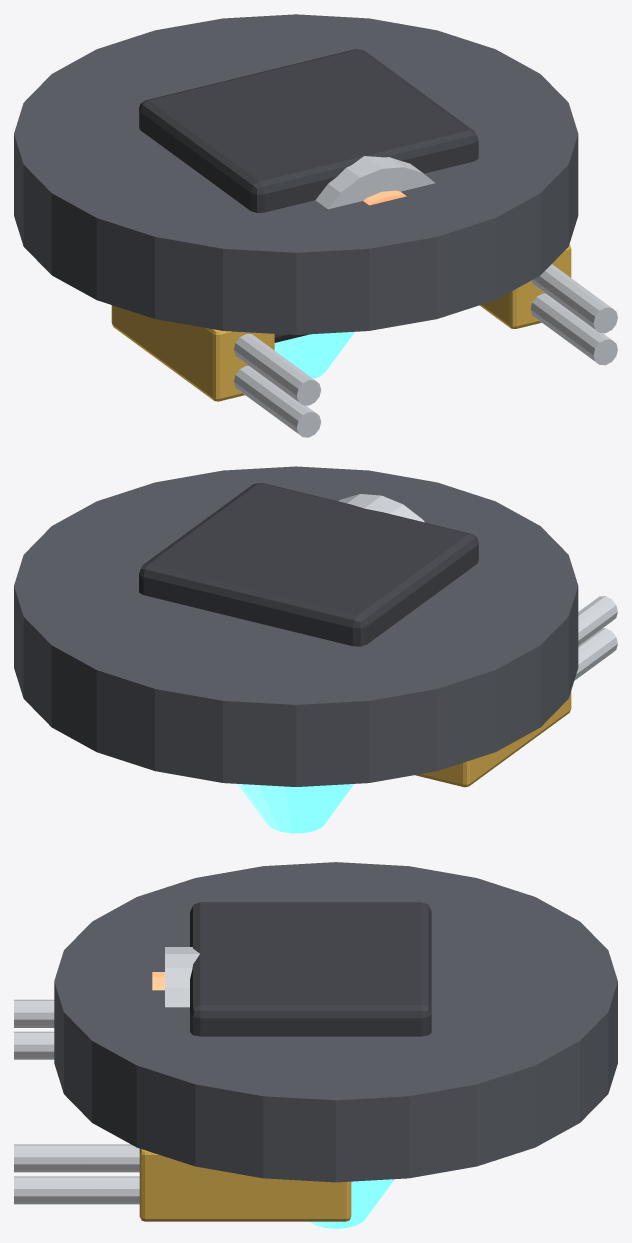
Rendered from enemy_drone_sparachiodi.glb.
3 views of the same model, one above another, from view 1: azimuth 30°, elevation 25°; view 2: azimuth 150°, elevation 25°; view 3: azimuth 270°, elevation 25° (orthographic).
Visible parts, largest first — view 1: DroneShroud, DroneCore, GunPod_-0.34, OpticBezel, NailBarrelA_-0.34, NailBarrelB_0.34, NailBarrelB_-0.34, NailBarrelA_0.34, ThrusterGlow, GunPod_0.34; view 2: DroneShroud, DroneCore, ThrusterGlow, GunPod_-0.34, NailBarrelA_-0.34, NailBarrelB_-0.34, OpticBezel; view 3: DroneShroud, DroneCore, GunPod_0.34, NailBarrelB_0.34, NailBarrelA_0.34, OpticBezel, ThrusterGlow, NailBarrelA_-0.34, NailBarrelB_-0.34.
Boxes of the visible parts, <box> form: DroneShroud: <box>14,14,578,334</box>; DroneCore: <box>139,49,478,342</box>; GunPod_-0.34: <box>111,305,274,401</box>; OpticBezel: <box>315,156,435,209</box>; NailBarrelA_-0.34: <box>234,334,320,405</box>; NailBarrelB_0.34: <box>530,293,617,365</box>; NailBarrelB_-0.34: <box>234,366,320,437</box>; NailBarrelA_0.34: <box>531,264,617,333</box>; ThrusterGlow: <box>274,331,354,378</box>; GunPod_0.34: <box>479,244,571,328</box>; DroneShroud: <box>14,466,578,786</box>; DroneCore: <box>139,483,478,646</box>; ThrusterGlow: <box>237,784,353,833</box>; GunPod_-0.34: <box>415,691,571,787</box>; NailBarrelA_-0.34: <box>578,596,617,645</box>; NailBarrelB_-0.34: <box>574,628,617,680</box>; OpticBezel: <box>338,494,424,522</box>; DroneShroud: <box>54,862,617,1182</box>; DroneCore: <box>190,902,431,1036</box>; GunPod_0.34: <box>139,1148,351,1221</box>; NailBarrelB_0.34: <box>14,1176,139,1204</box>; NailBarrelA_0.34: <box>14,1144,139,1172</box>; OpticBezel: <box>165,947,199,1007</box>; ThrusterGlow: <box>310,1179,394,1228</box>; NailBarrelA_-0.34: <box>14,999,54,1027</box>; NailBarrelB_-0.34: <box>14,1031,54,1059</box>.
Bounding box in the file's own units: 1.12 × 0.575 × 1.2.
